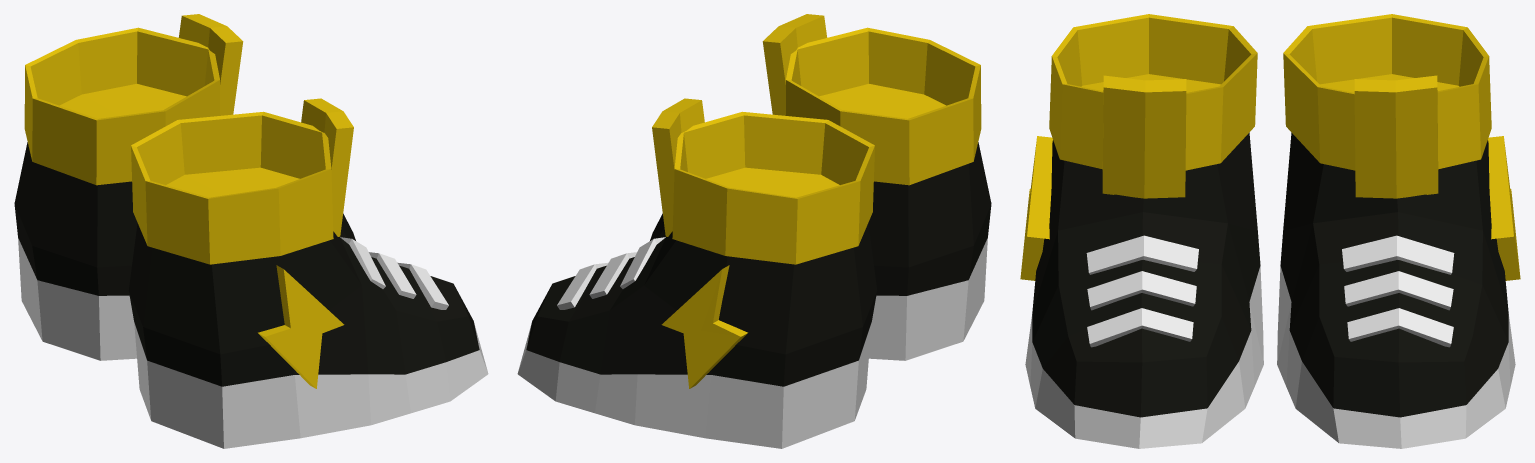
The model's file is boots_power.fbx.
The picture shows the model from 3 angles, left to right: view 1: azimuth 30°, elevation 25°; view 2: azimuth 150°, elevation 25°; view 3: azimuth 270°, elevation 25°; orthographic projection. The views are drawn at different scales.
Parts seen in each view (by area): view 1: boots; view 2: boots; view 3: boots.
Boxes of the visible parts, x1,y1,x2,y2 form: boots: (14,14,488,448); boots: (517,14,991,448); boots: (1020,14,1520,448).
Size of the model in its own units: 0.6899 by 0.5381 by 0.8401.
